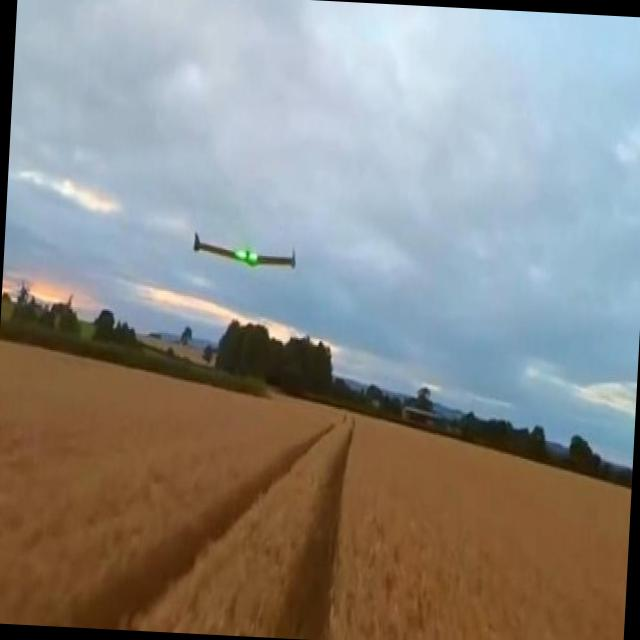UAV: (174, 197, 332, 316)
